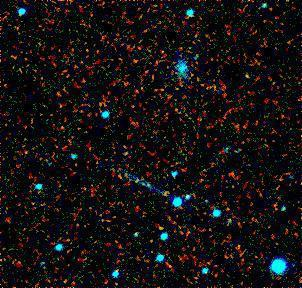star: (152, 183, 182, 213)
